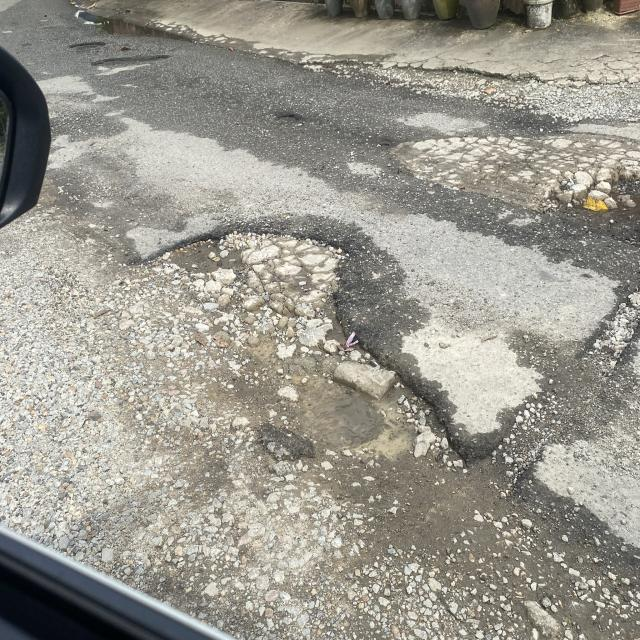Pothole: (154, 190, 518, 550)
